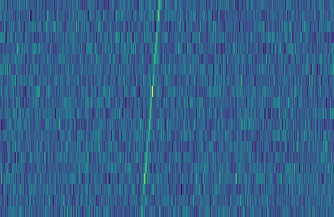signal: (137, 0, 165, 217)
